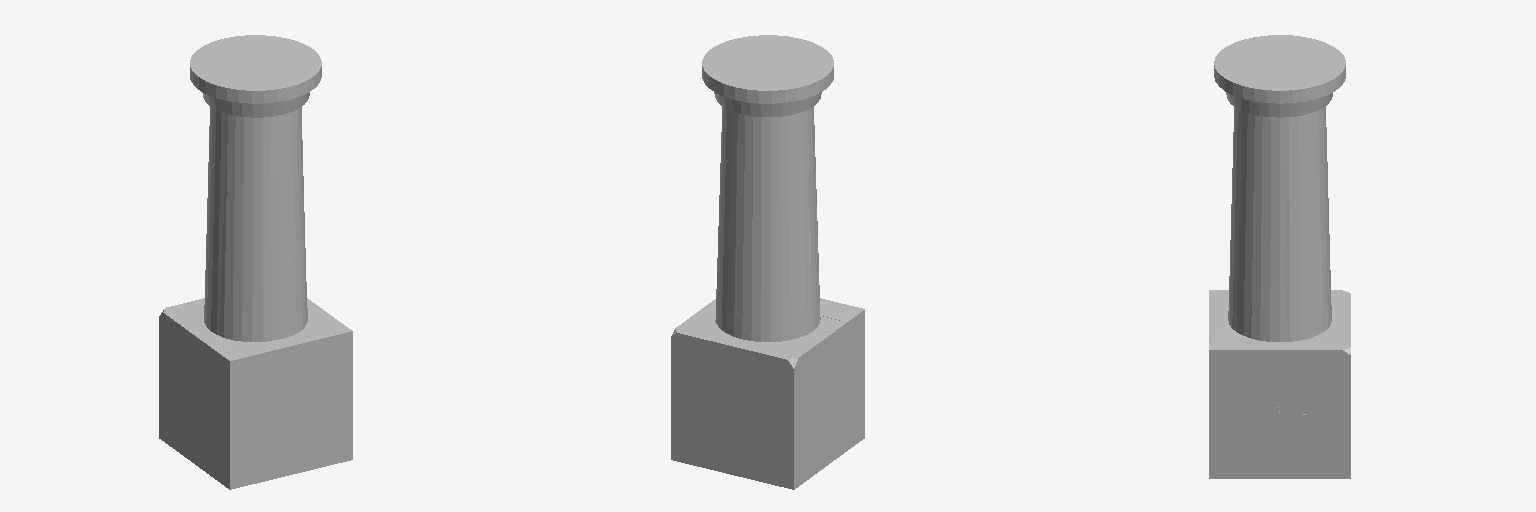
Rendered from tiles.obj.
The picture shows the model from 3 angles: view 1: azimuth 30°, elevation 25°; view 2: azimuth 150°, elevation 25°; view 3: azimuth 270°, elevation 25°; orthographic projection.
Visible parts, largest first — view 1: column_round_2block_01, stairs_1block_02, column_round_2block_03, groundHigh_center_01, groundMH_center_02, groundHigh_center_02, stairs_1block_03, groundHigh_center_03, groundML_center_01, groundLow_center_02, groundML_center_02, groundMH_center_01 (+1 smaller); view 2: column_round_2block_01, groundHigh_center_01, column_round_2block_03, groundHigh_center_02, groundML_center_01, groundHigh_center_03, groundMH_center_02, groundML_center_02, stairs_1block_03, groundLow_center_02; view 3: column_round_2block_01, column_round_2block_03, groundHigh_center_01, stairs_1block_01, column_round_2block_02, groundMH_center_03, groundHigh_center_02, groundML_center_01, stairs_1block_03, groundMH_center_01, groundHigh_center_03, groundML_center_02 (+3 smaller).
Boxes of the visible parts, x1=… form: column_round_2block_01: x1=169, y1=35, x2=321, y2=489; stairs_1block_02: x1=166, y1=331, x2=352, y2=489; column_round_2block_03: x1=159, y1=35, x2=321, y2=487; groundHigh_center_01: x1=159, y1=298, x2=333, y2=459; groundMH_center_02: x1=159, y1=349, x2=223, y2=449; groundHigh_center_02: x1=159, y1=299, x2=333, y2=448; stairs_1block_03: x1=165, y1=318, x2=351, y2=480; groundHigh_center_03: x1=159, y1=298, x2=229, y2=485; groundML_center_01: x1=159, y1=380, x2=226, y2=460; groundLow_center_02: x1=164, y1=414, x2=222, y2=468; groundML_center_02: x1=159, y1=381, x2=221, y2=481; groundMH_center_01: x1=159, y1=347, x2=220, y2=452; column_round_2block_01: x1=676, y1=47, x2=864, y2=489; groundHigh_center_01: x1=671, y1=302, x2=864, y2=485; column_round_2block_03: x1=689, y1=35, x2=864, y2=488; groundHigh_center_02: x1=671, y1=299, x2=864, y2=489; groundML_center_01: x1=671, y1=405, x2=864, y2=487; groundHigh_center_03: x1=671, y1=302, x2=864, y2=487; groundMH_center_02: x1=671, y1=353, x2=864, y2=485; groundML_center_02: x1=673, y1=385, x2=863, y2=489; stairs_1block_03: x1=677, y1=298, x2=864, y2=488; groundLow_center_02: x1=671, y1=417, x2=859, y2=483; column_round_2block_01: x1=1214, y1=35, x2=1350, y2=478; column_round_2block_03: x1=1214, y1=35, x2=1349, y2=478; groundHigh_center_01: x1=1209, y1=290, x2=1350, y2=478; stairs_1block_01: x1=1209, y1=326, x2=1314, y2=478; column_round_2block_02: x1=1245, y1=39, x2=1347, y2=477; groundMH_center_03: x1=1210, y1=382, x2=1350, y2=477; groundHigh_center_02: x1=1209, y1=290, x2=1350, y2=478; groundML_center_01: x1=1210, y1=415, x2=1348, y2=478; stairs_1block_03: x1=1209, y1=290, x2=1350, y2=478; groundMH_center_01: x1=1209, y1=382, x2=1350, y2=477; groundHigh_center_03: x1=1209, y1=290, x2=1350, y2=478; groundML_center_02: x1=1209, y1=415, x2=1350, y2=478.
Size of the model in its own units: 100 by 300 by 100.